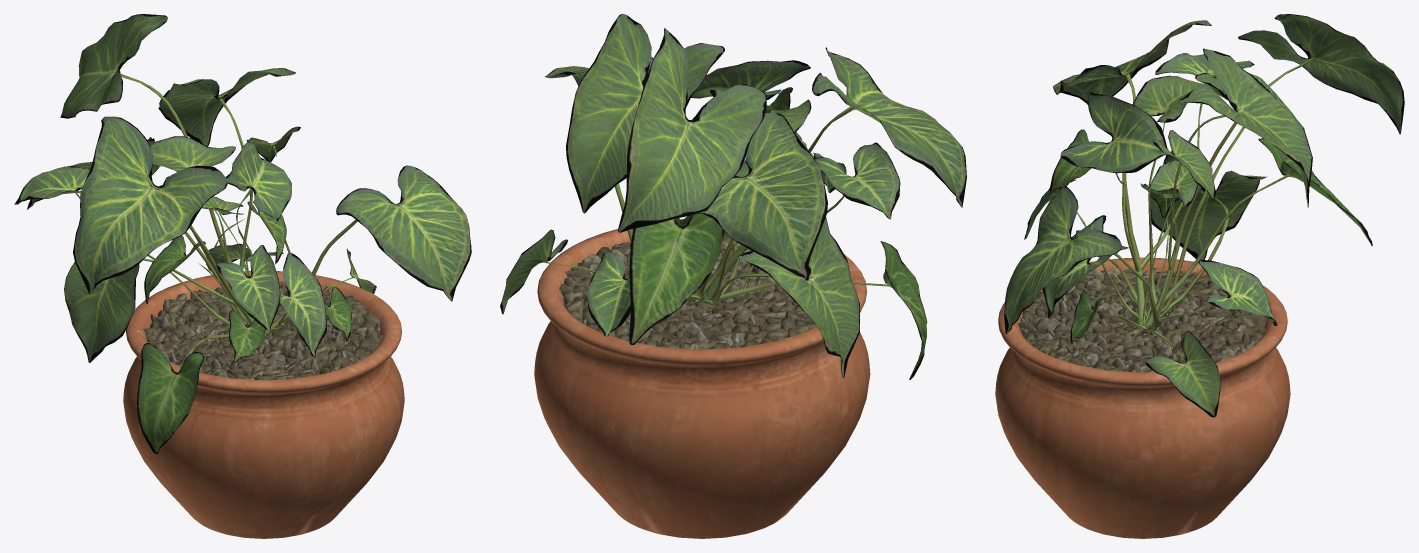
Rendered from ph_potted_plant_02.glb.
3 renders of one model, left to right at view 1: azimuth 30°, elevation 25°; view 2: azimuth 150°, elevation 25°; view 3: azimuth 270°, elevation 25°, orthographic. The views are drawn at different scales.
Visible parts, largest first — view 1: potted_plant_02_leaves, potted_plant_02_pot; view 2: potted_plant_02_leaves, potted_plant_02_pot; view 3: potted_plant_02_pot, potted_plant_02_leaves.
Boxes of the visible parts, x1,y1,x2,y2 form: potted_plant_02_leaves: [14, 14, 471, 453]; potted_plant_02_pot: [123, 271, 404, 538]; potted_plant_02_leaves: [500, 14, 966, 379]; potted_plant_02_pot: [534, 219, 870, 538]; potted_plant_02_pot: [995, 257, 1290, 538]; potted_plant_02_leaves: [1004, 14, 1404, 417].
Size of the model in its own units: 0.7009 by 0.8412 by 0.6574.
Materials: 2 (2 with a texture image).
